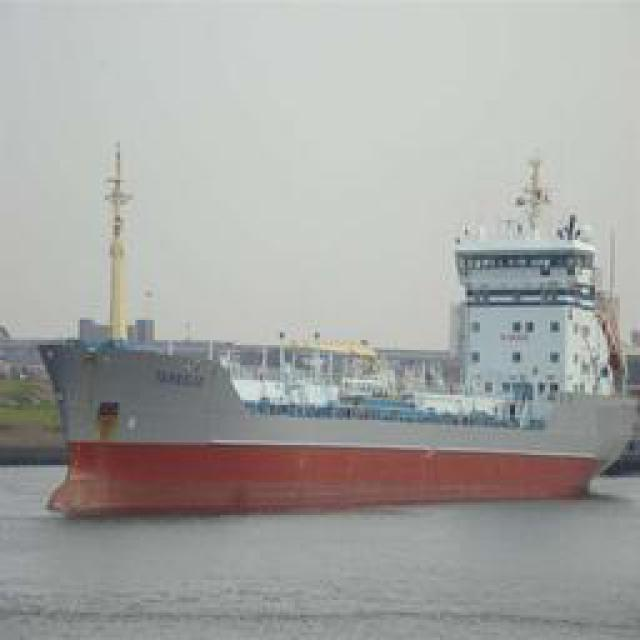Ship: (34, 221, 629, 511)
